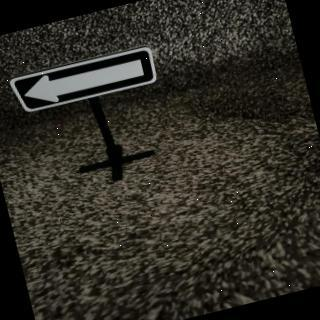sign_oneway_left: (10, 44, 161, 118)
